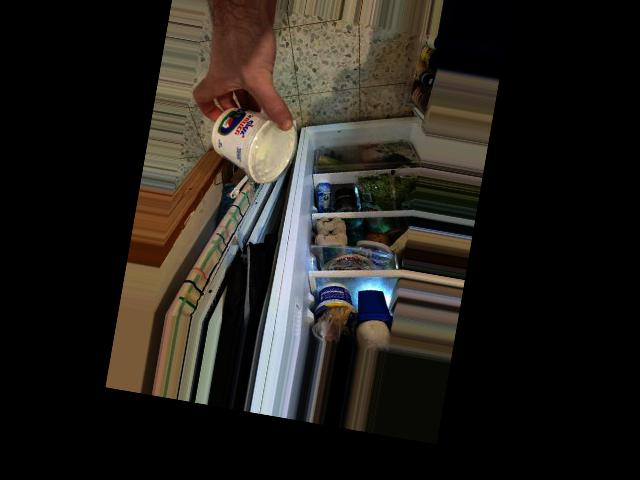cotage: (204, 96, 287, 191)
